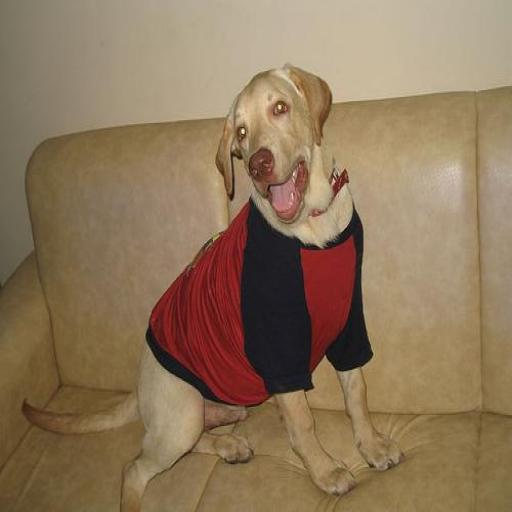dog_face: (214, 65, 326, 222)
